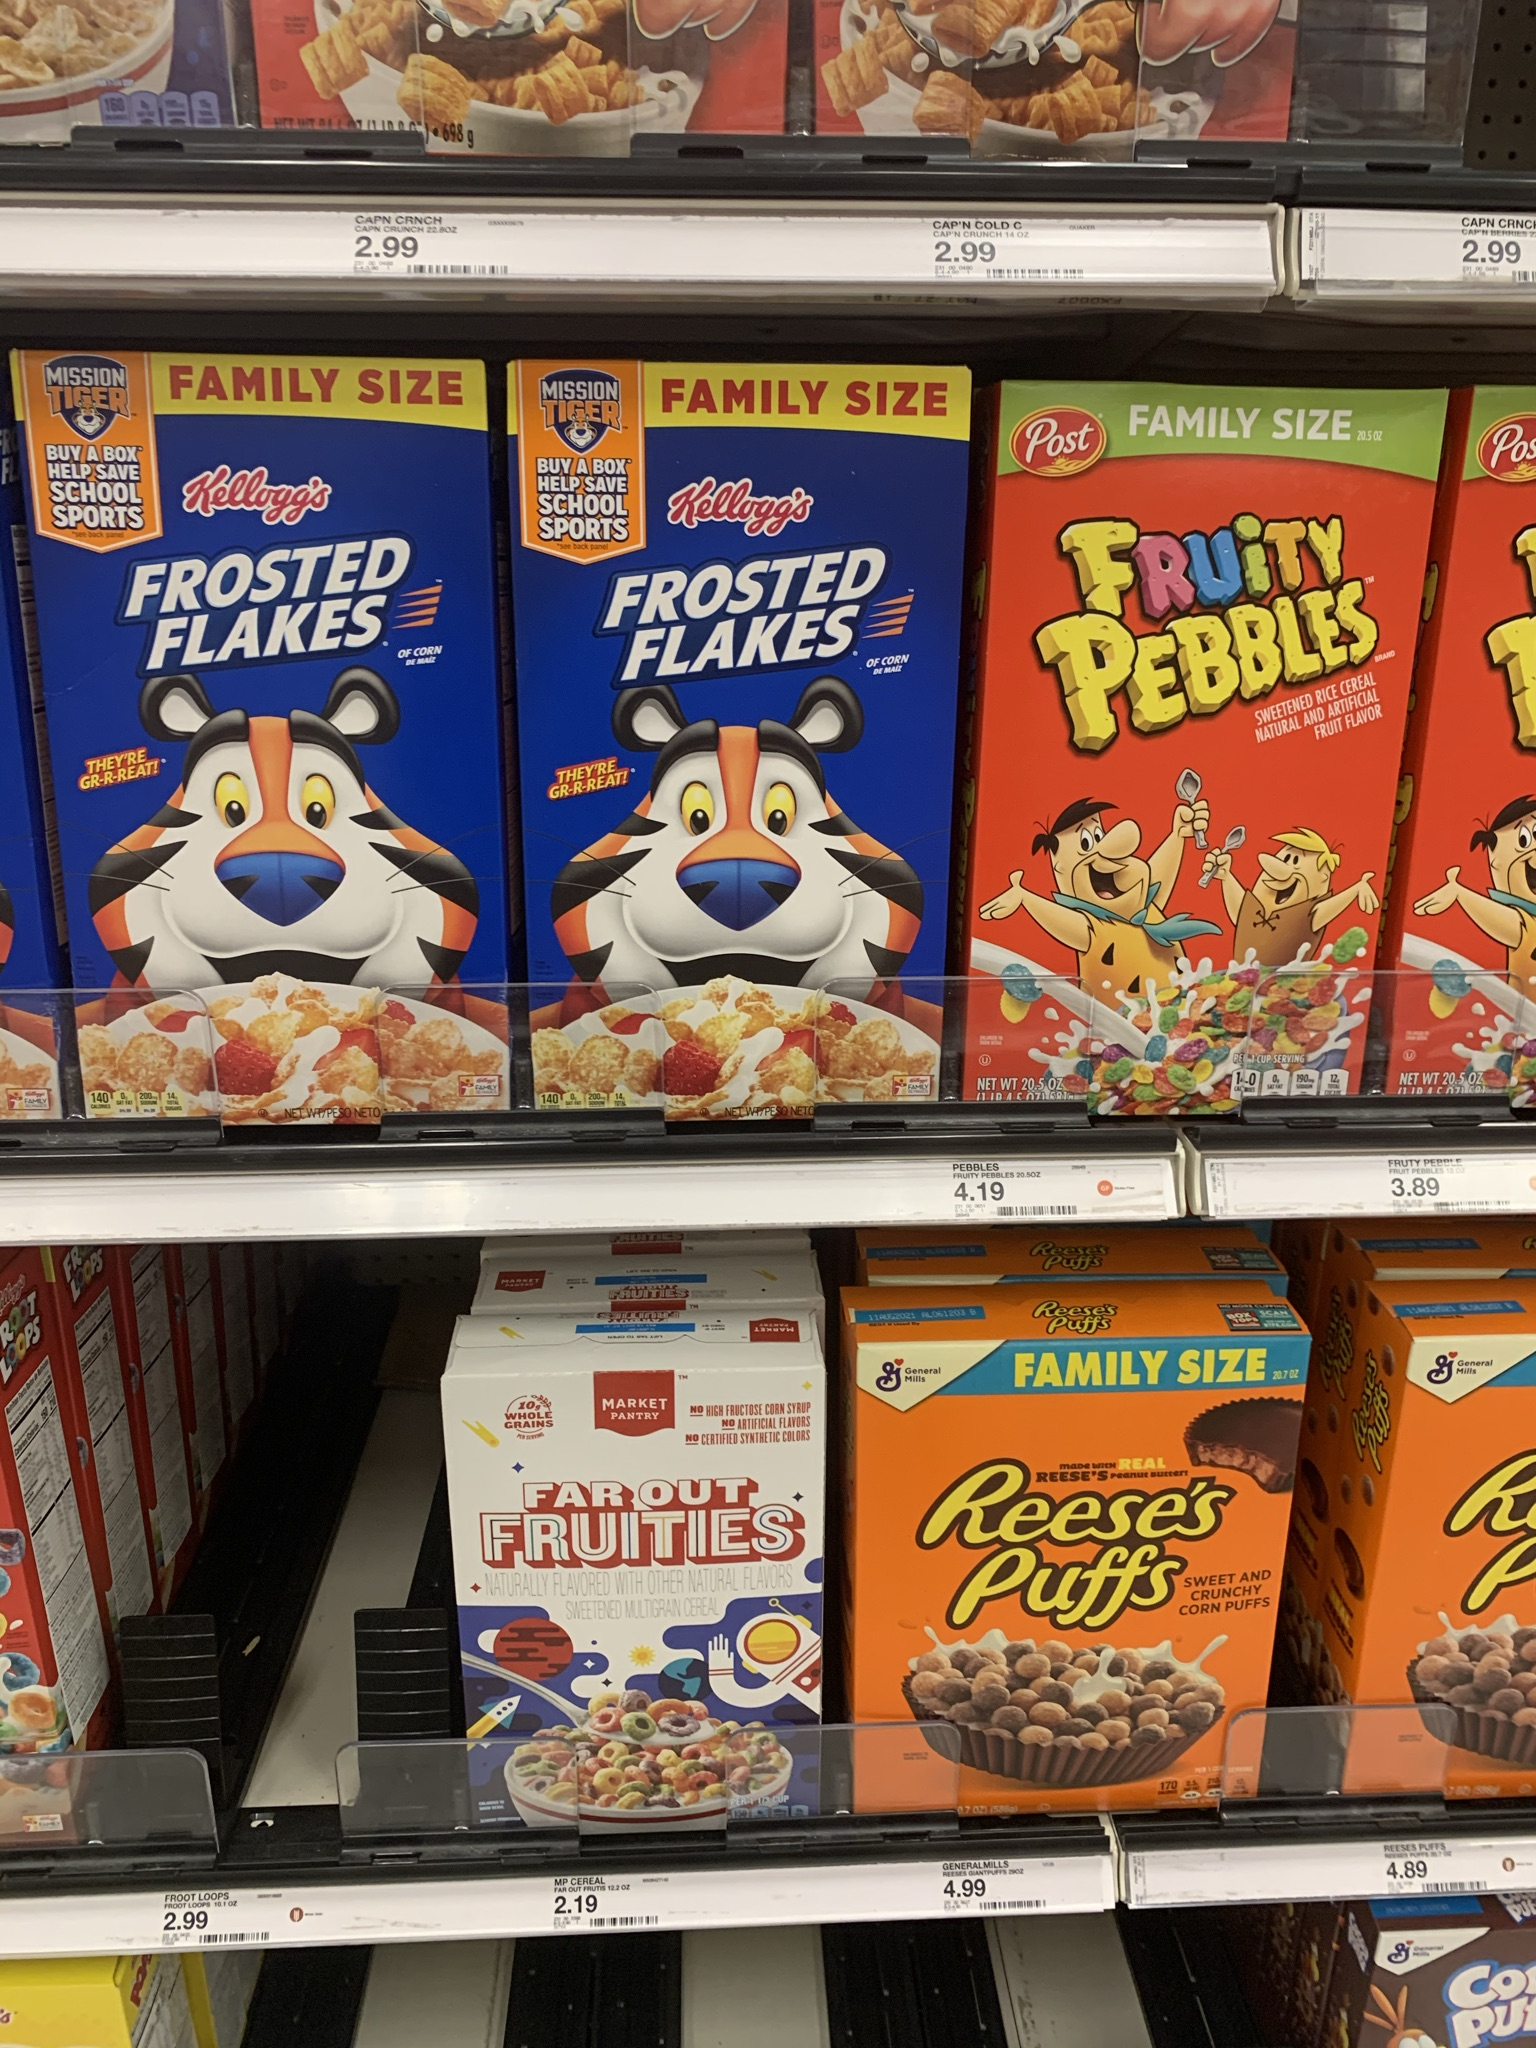box: (69, 369, 489, 984), (555, 374, 949, 974), (1008, 389, 1376, 972), (862, 1347, 1263, 1708), (455, 1387, 810, 1722)
